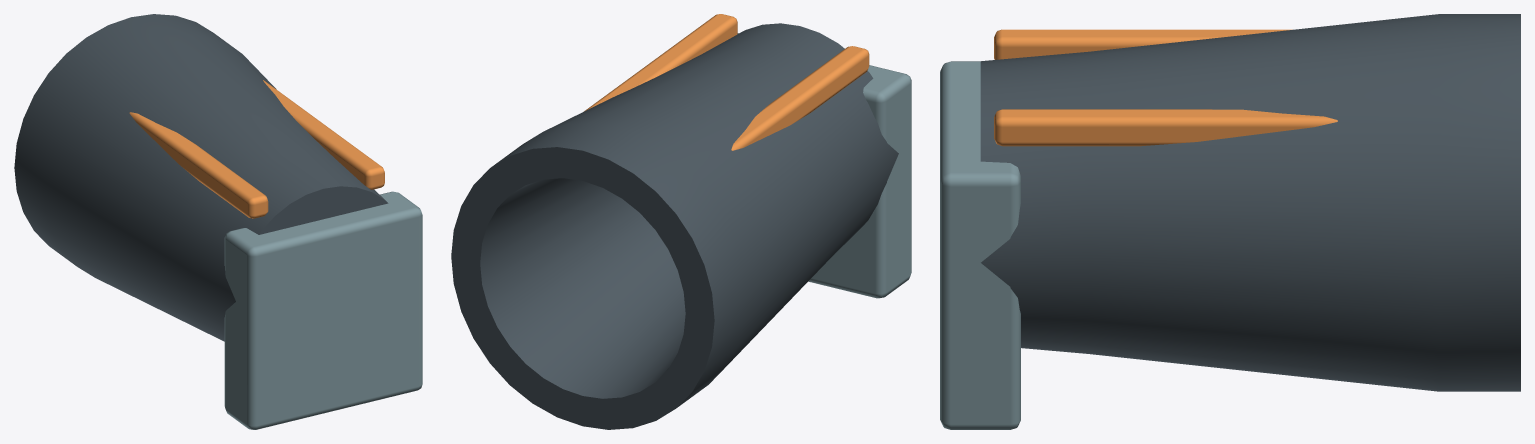
Rendered from engine-medium.glb.
3 views of the same model, side by side, from view 1: azimuth 30°, elevation 25°; view 2: azimuth 150°, elevation 25°; view 3: azimuth 270°, elevation 25° (orthographic). The views are drawn at different scales.
Parts seen in each view (by area): view 1: medium-engine; view 2: medium-engine; view 3: medium-engine.
Part boxes in pixels (x1,y1,x2,y2): medium-engine: (14, 14, 422, 429); medium-engine: (451, 14, 911, 429); medium-engine: (940, 14, 1520, 429).
Size of the model in its own units: 1.4 by 1.4 by 2.15.
